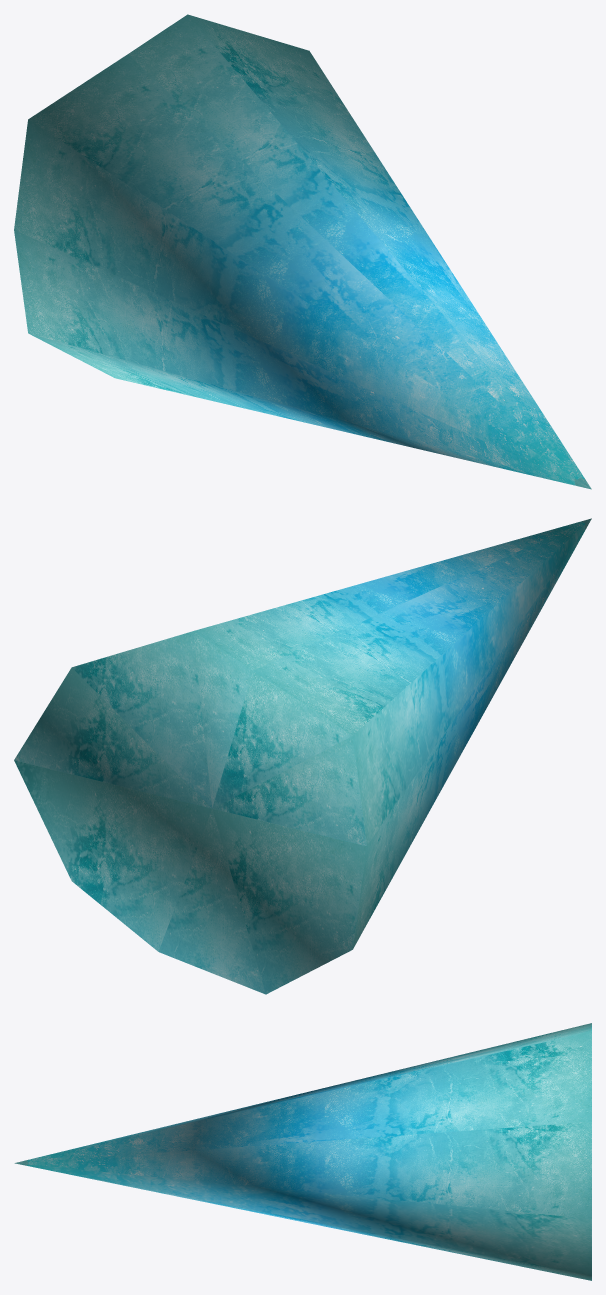
The model's file is IceShard.obj.
3 renders of one model, top to bottom at view 1: azimuth 30°, elevation 25°; view 2: azimuth 150°, elevation 25°; view 3: azimuth 270°, elevation 25°, orthographic. The views are drawn at different scales.
Parts seen in each view (by area): view 1: IceShard; view 2: IceShard; view 3: IceShard.
Boxes of the visible parts, x1,y1,x2,y2 form: IceShard: (14,14,591,489); IceShard: (14,518,591,994); IceShard: (14,1023,591,1280).
Bounding box in the file's own units: 0.3808 × 0.3566 × 0.75.
